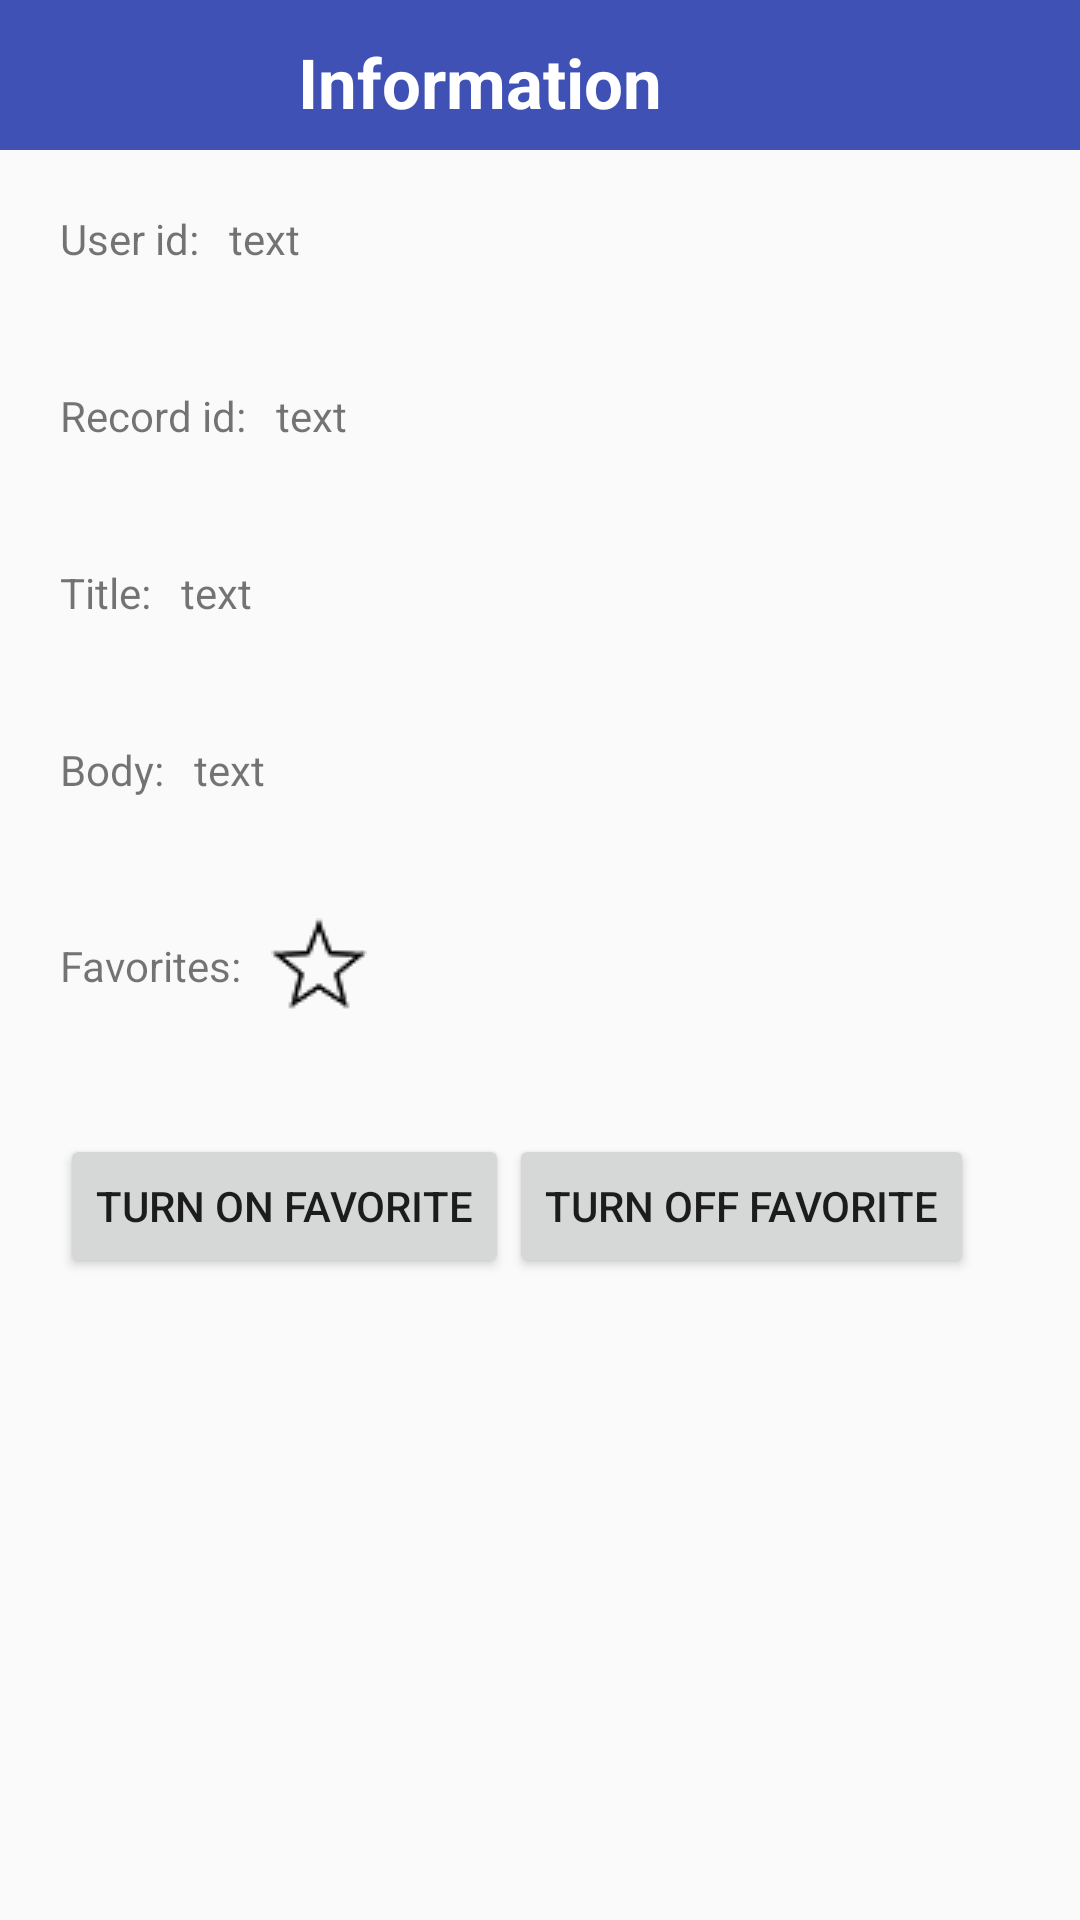

Where icons sit on this 1080*1920 app screen, as {"x1": x1, "y1": y1, "x2": x2, "y2": y2}:
star off: {"x1": 271, "y1": 920, "x2": 367, "y2": 1009}
